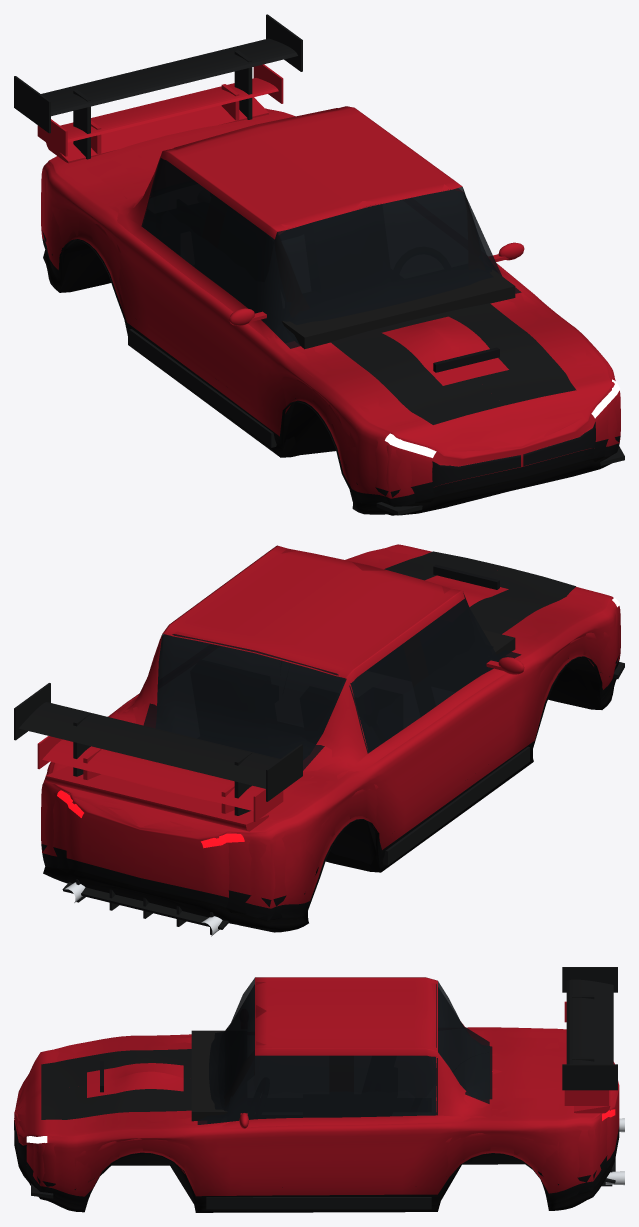
File: sr_subaru_wrx_sti_gc8.glb
3 renders of one model, top to bottom at view 1: azimuth 30°, elevation 25°; view 2: azimuth 150°, elevation 25°; view 3: azimuth 270°, elevation 25°, orthographic. The views are drawn at different scales.
Visible parts, largest first — view 1: body (×2), hood_3, spoiler_3, spoiler_2, interior, hood_1, spoiler_1, bumper_1, grille, mirrors, hood_1_intake; view 2: body (×2), spoiler_3, spoiler_2, hood_3, bumper_1, spoiler_1, hood_1, hood_1_intake; view 3: body (×2), hood_3, spoiler_3, bumper_1, hood_1, interior, spoiler_2.
Part boxes in pixels (x1=…): body (×2): x1=41, y1=106, x2=620, y2=515; hood_3: x1=330, y1=303, x2=576, y2=424; spoiler_3: x1=14, y1=14, x2=302, y2=159; spoiler_2: x1=37, y1=64, x2=283, y2=156; interior: x1=282, y1=269, x2=515, y2=349; hood_1: x1=382, y1=316, x2=508, y2=385; spoiler_1: x1=46, y1=97, x2=268, y2=163; bumper_1: x1=129, y1=329, x2=624, y2=515; grille: x1=432, y1=422, x2=595, y2=487; mirrors: x1=229, y1=242, x2=524, y2=325; hood_1_intake: x1=433, y1=347, x2=499, y2=372; body (×2): x1=41, y1=544, x2=620, y2=932; spoiler_3: x1=14, y1=683, x2=302, y2=815; spoiler_2: x1=37, y1=736, x2=283, y2=821; hood_3: x1=384, y1=551, x2=575, y2=634; bumper_1: x1=62, y1=662, x2=624, y2=934; spoiler_1: x1=45, y1=766, x2=268, y2=831; hood_1: x1=425, y1=575, x2=508, y2=606; hood_1_intake: x1=433, y1=564, x2=499, y2=589; body (×2): x1=14, y1=977, x2=619, y2=1212; hood_3: x1=41, y1=1049, x2=191, y2=1119; spoiler_3: x1=562, y1=967, x2=617, y2=1090; bumper_1: x1=31, y1=1158, x2=615, y2=1209; hood_1: x1=87, y1=1063, x2=183, y2=1097; interior: x1=191, y1=1030, x2=227, y2=1121; spoiler_2: x1=564, y1=1001, x2=608, y2=1105.
Bounding box in the file's own units: 1.94 × 1.23 × 4.39.
